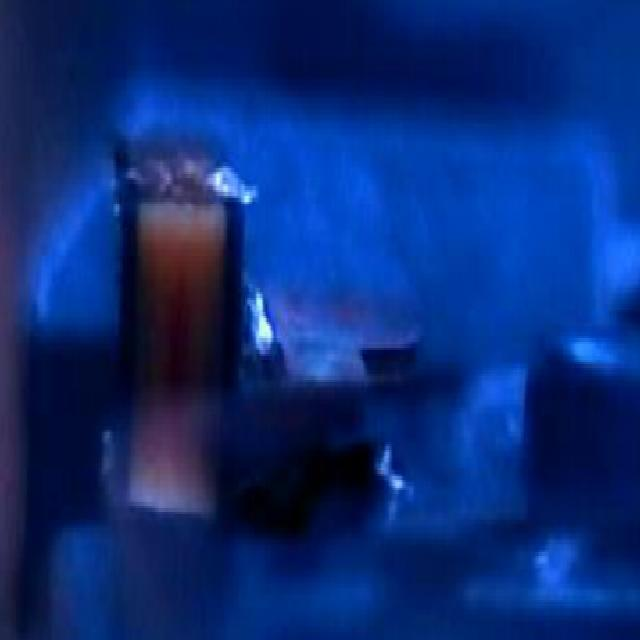No Good: (231, 255, 289, 385)
